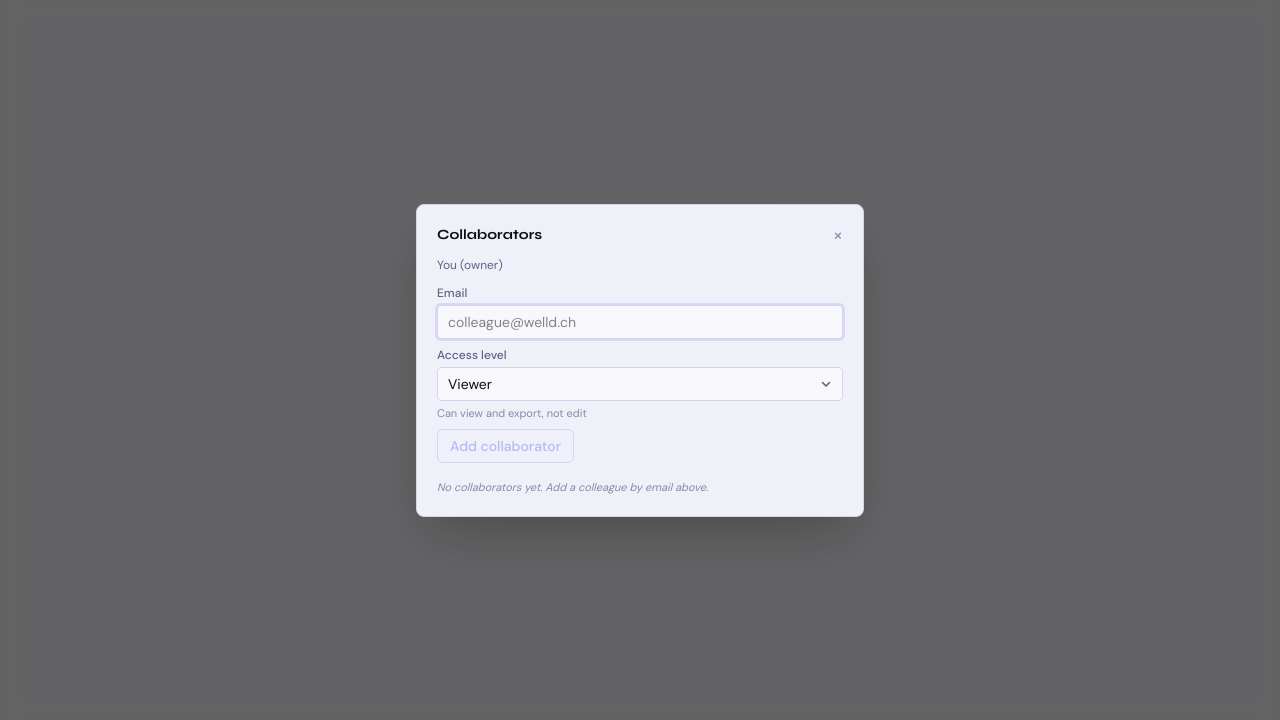
Scenario: CollaboratorsDialog — owner mode (T20, specs/013) › self-add (AC-1.4) › blocks the signed-in user’s own email client-side, firing no request
This screenshot has width=1280, height=720.
Check: the text "No collaborators yet. Add a colleague by email above." is shown, box [437,480,708,494]
Type "Owner@Welld.CH" into the field with test id "collaborators-dialog-email-input" at point(640, 322), box [437,304,843,338]
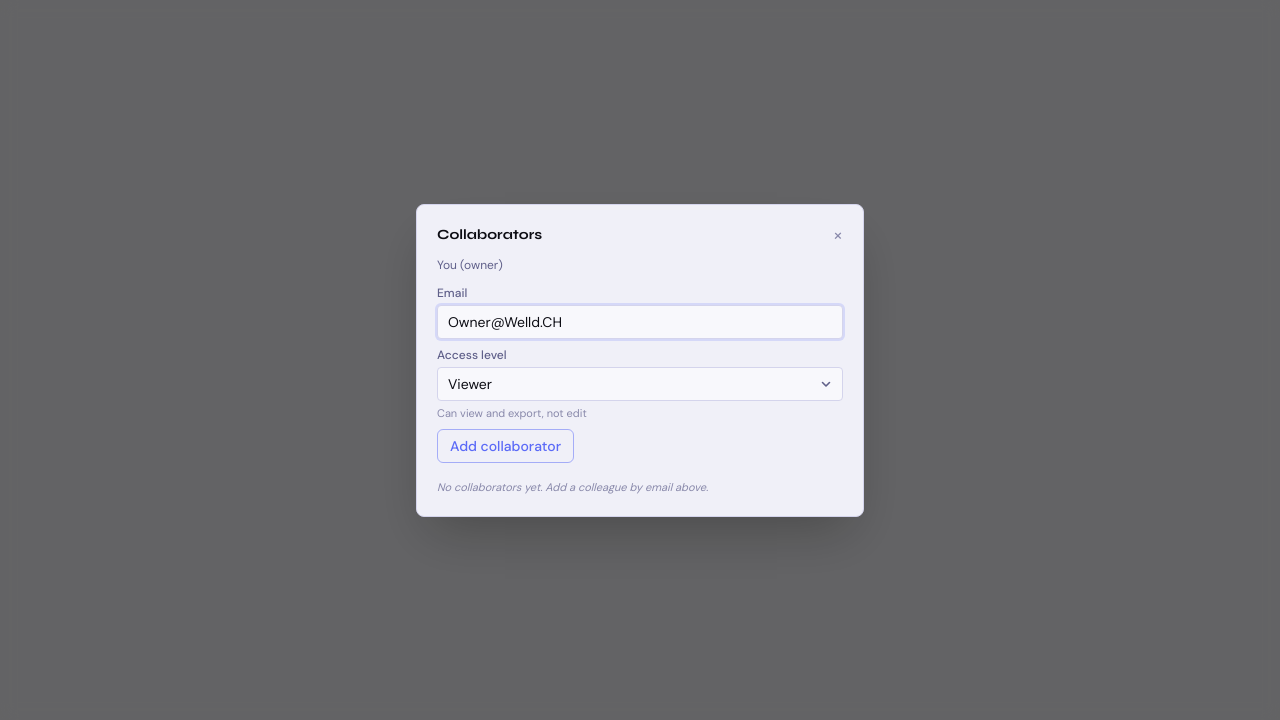
Click the button with test id "collaborators-dialog-add-button" at point(506, 446), box [437,429,574,463]
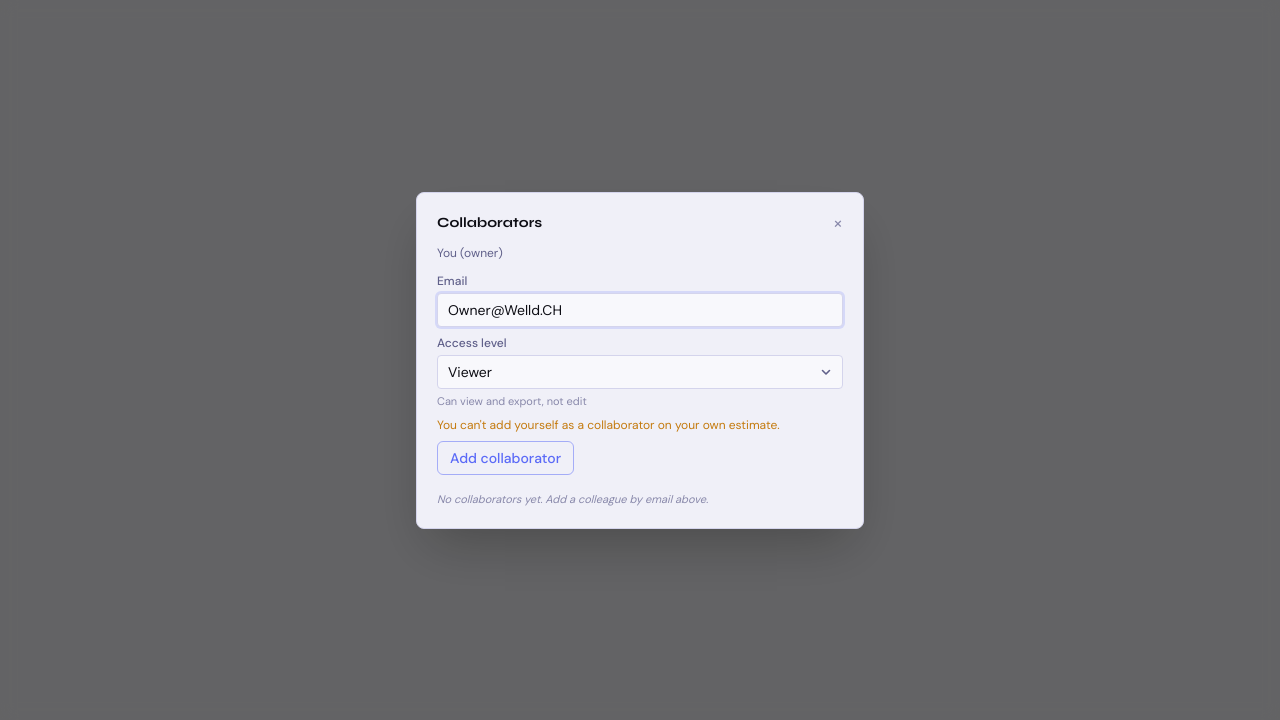
Check: the message with test id "collaborators-dialog-add-error" reads "You can't add yourself as a collaborator on your own estimate.", box [437,417,780,433]
